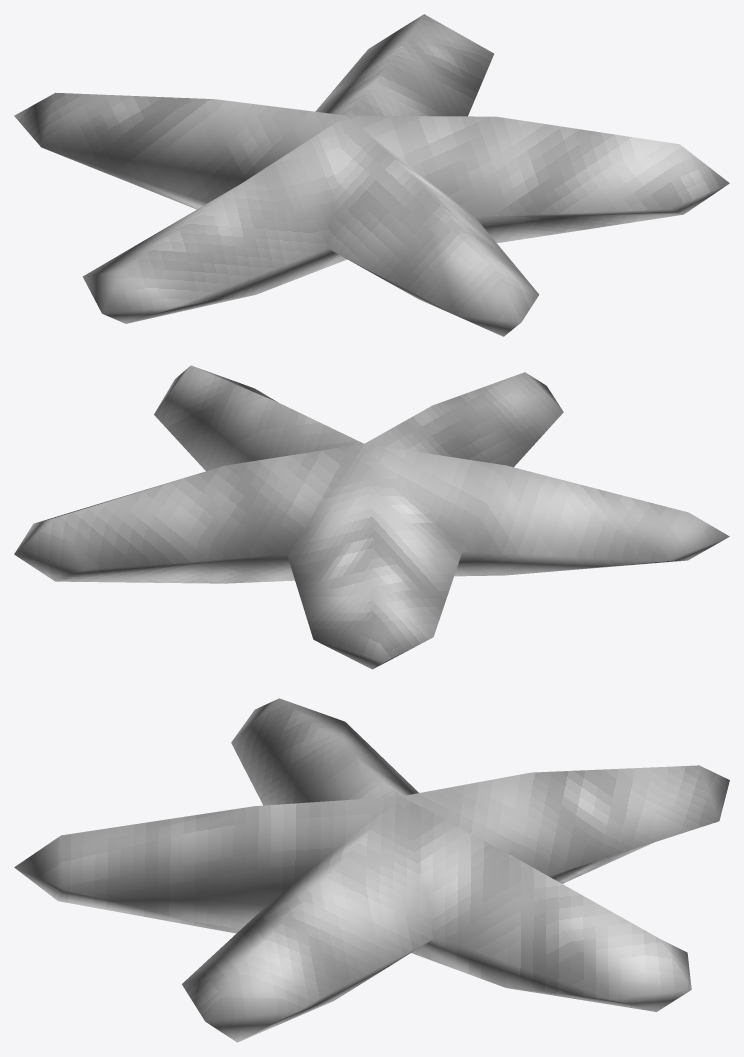
File: seastar.obj
3 renders of one model, top to bottom at view 1: azimuth 30°, elevation 25°; view 2: azimuth 150°, elevation 25°; view 3: azimuth 270°, elevation 25°, orthographic. The views are drawn at different scales.
Visible parts, largest first — view 1: Duplicate02; view 2: Duplicate02; view 3: Duplicate02.
Part boxes in pixels (<box>): Duplicate02: <box>14,14,729,336</box>; Duplicate02: <box>14,365,729,669</box>; Duplicate02: <box>14,698,729,1042</box>.
Bounding box in the file's own units: 78.42 × 17.6 × 76.05.
